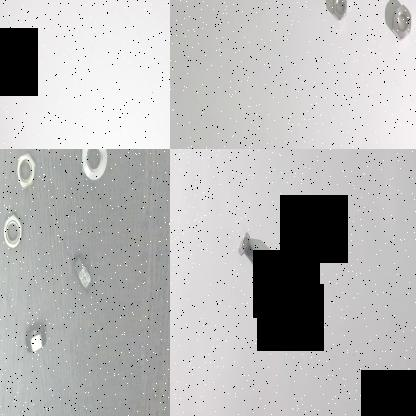Bolts: (236, 226, 266, 280)
NUTS: (79, 149, 111, 185), (12, 152, 40, 192), (387, 0, 413, 42), (21, 321, 48, 359), (2, 208, 26, 250), (72, 249, 92, 292), (328, 0, 350, 22)
